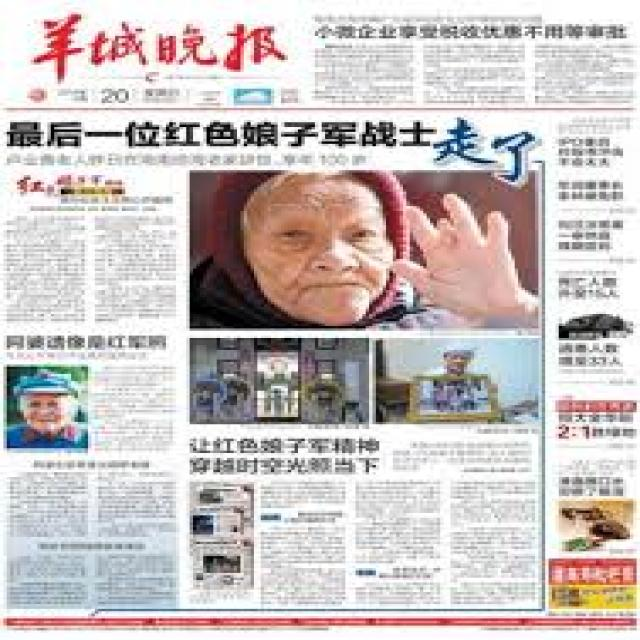paper: (7, 7, 640, 640)
